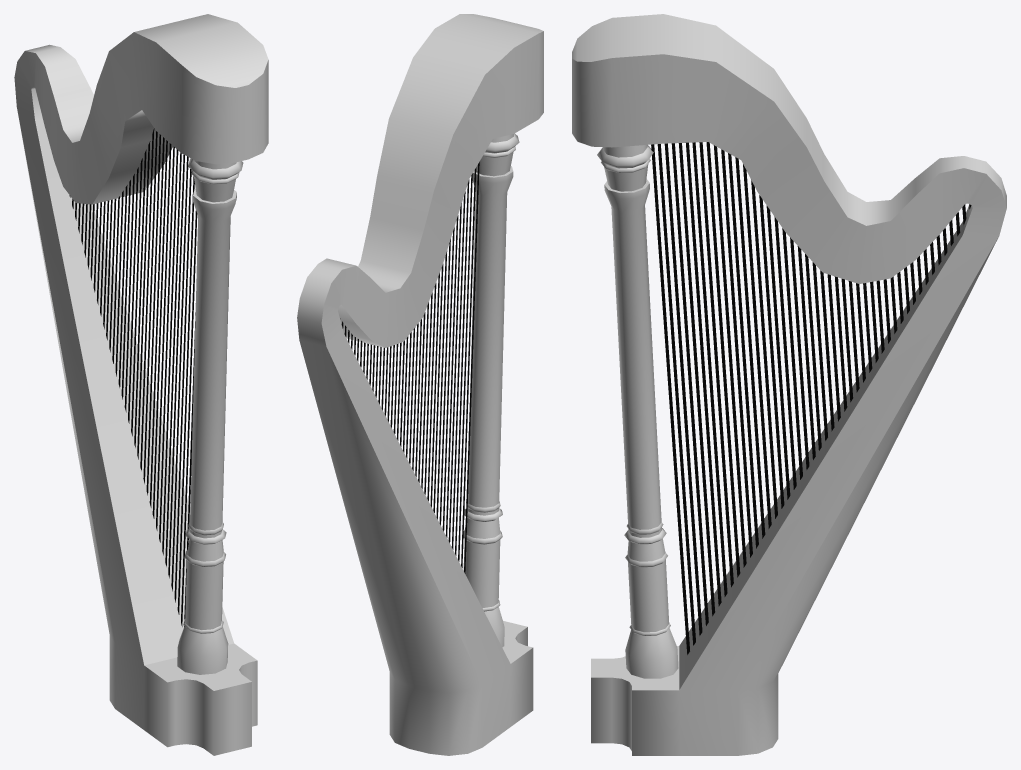
Rendered from Harp.fbx.
3 views of the same model, side by side, from view 1: azimuth 30°, elevation 25°; view 2: azimuth 150°, elevation 25°; view 3: azimuth 270°, elevation 25° (orthographic). The views are drawn at different scales.
Parts seen in each view (by area): view 1: Harp_LOD0, HarpStrings_LOD0; view 2: Harp_LOD0, HarpStrings_LOD0; view 3: Harp_LOD0, HarpStrings_LOD0.
Boxes of the visible parts, left/top/right/bottom form: Harp_LOD0: left=14, top=14, right=268, bottom=755; HarpStrings_LOD0: left=69, top=128, right=197, bottom=626; Harp_LOD0: left=297, top=14, right=543, bottom=755; HarpStrings_LOD0: left=340, top=162, right=479, bottom=573; Harp_LOD0: left=572, top=14, right=1006, bottom=755; HarpStrings_LOD0: left=651, top=142, right=971, bottom=654.
Size of what is drawn, in the model's own units: 51.8 by 381 by 214.
